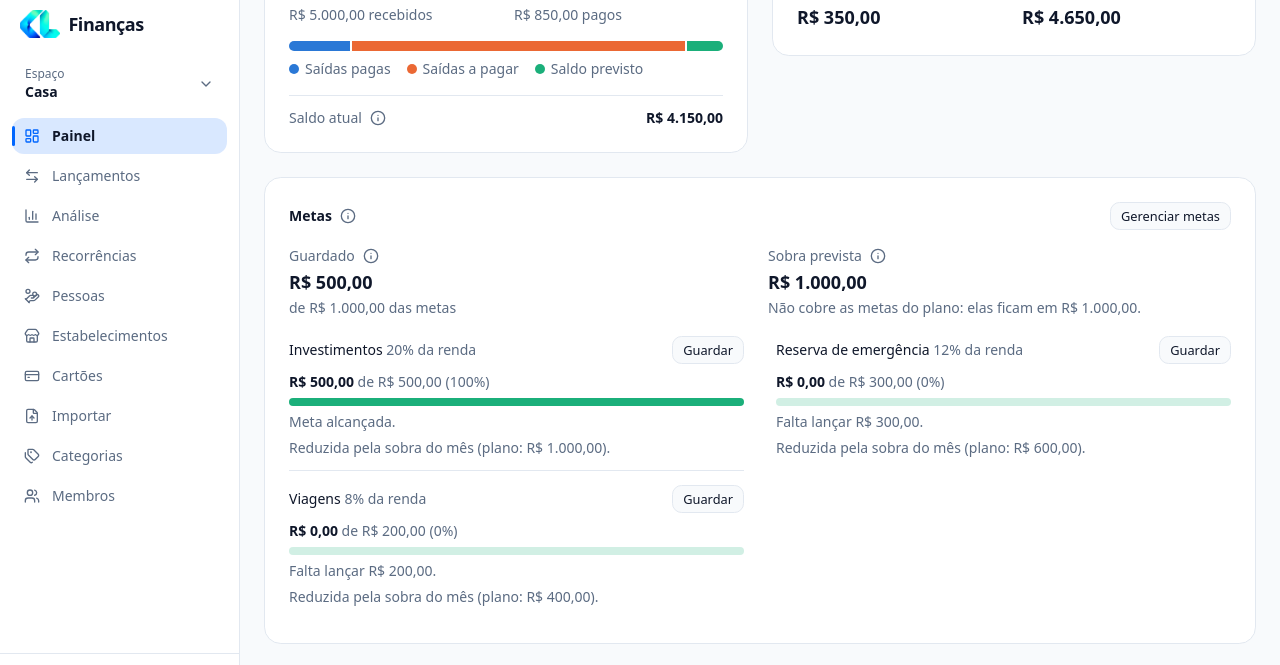
it: DashboardPage › cuts the goals to what is left, and "Guardar" offers only that (ADR 0064 note)
(page scrolled)
Click the button named "Guardar em Reserva de emergência" at (1195, 350), box [1159,336,1231,364]
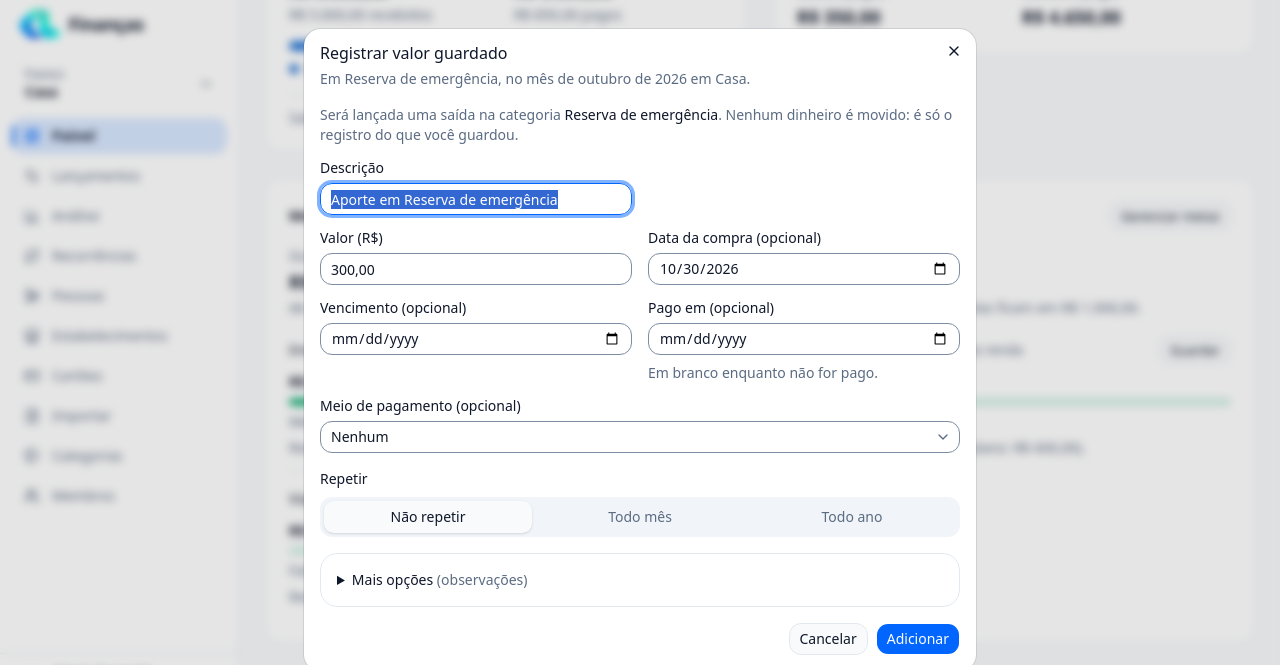
Result: the field labelled "Valor (R$)" holds "300,00" at [320,253,632,285]
